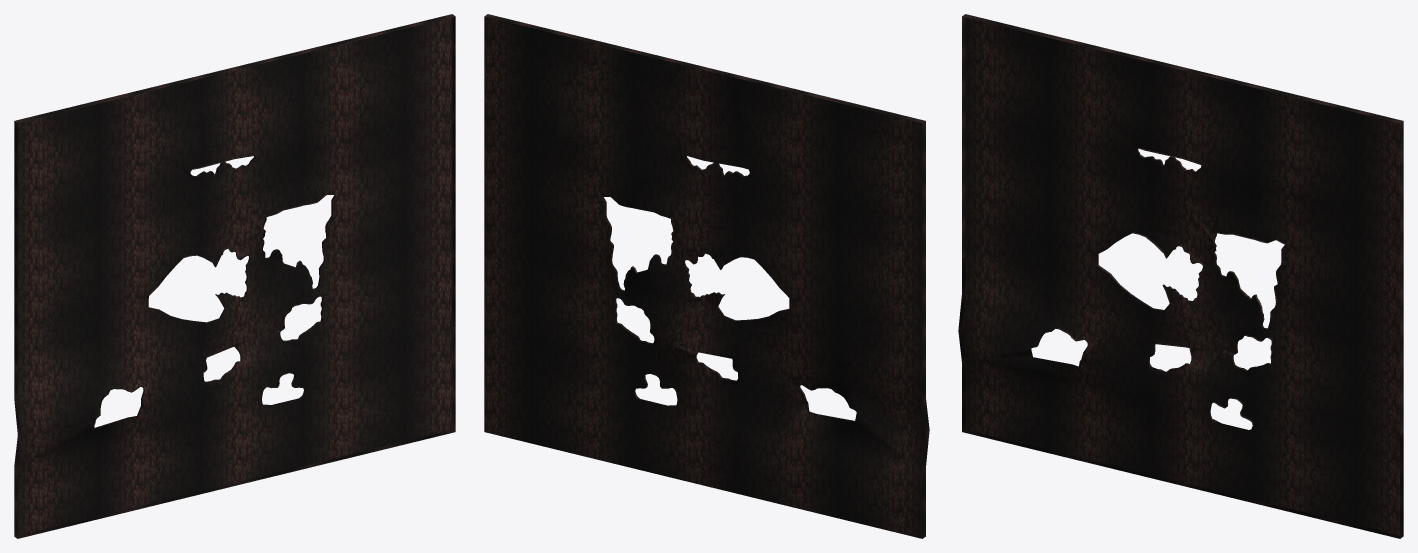
The model's file is Room5 - BG.fbx.
The picture shows the model from 3 angles, left to right: view 1: azimuth 30°, elevation 25°; view 2: azimuth 150°, elevation 25°; view 3: azimuth 330°, elevation 25°; orthographic projection.
Visible parts, largest first — view 1: pasted__Plane001; view 2: pasted__Plane001; view 3: pasted__Plane001.
Boxes of the visible parts, x1,y1,x2,y2 form: pasted__Plane001: (14, 14, 455, 538); pasted__Plane001: (484, 14, 929, 538); pasted__Plane001: (958, 14, 1403, 538).
Bounding box in the file's own units: 20.39 × 18.48 × 1.1.
